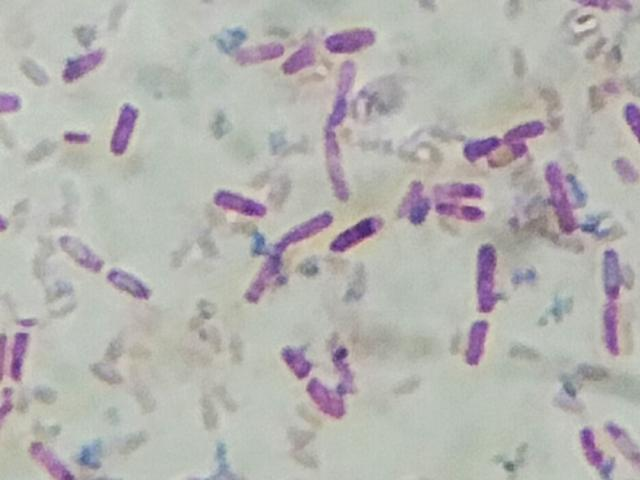E. coli: (546, 159, 581, 233), (592, 295, 629, 365), (321, 119, 350, 201), (53, 225, 102, 273), (331, 213, 386, 254), (26, 433, 73, 480), (471, 239, 502, 307), (303, 375, 346, 424), (108, 260, 161, 299), (111, 96, 143, 158), (322, 25, 384, 57), (459, 312, 493, 369), (62, 45, 112, 83), (602, 415, 640, 464), (243, 253, 283, 299), (232, 35, 285, 66), (333, 60, 357, 126), (281, 209, 329, 242), (208, 187, 264, 215), (573, 423, 604, 473), (332, 342, 360, 397), (593, 245, 625, 293), (396, 177, 427, 226), (616, 95, 640, 155), (282, 45, 321, 81), (13, 325, 34, 391), (431, 176, 485, 199), (502, 116, 544, 144), (439, 200, 485, 225), (485, 145, 532, 169), (465, 130, 496, 161), (278, 343, 306, 377), (0, 79, 21, 118), (63, 119, 89, 150), (0, 380, 13, 428)
